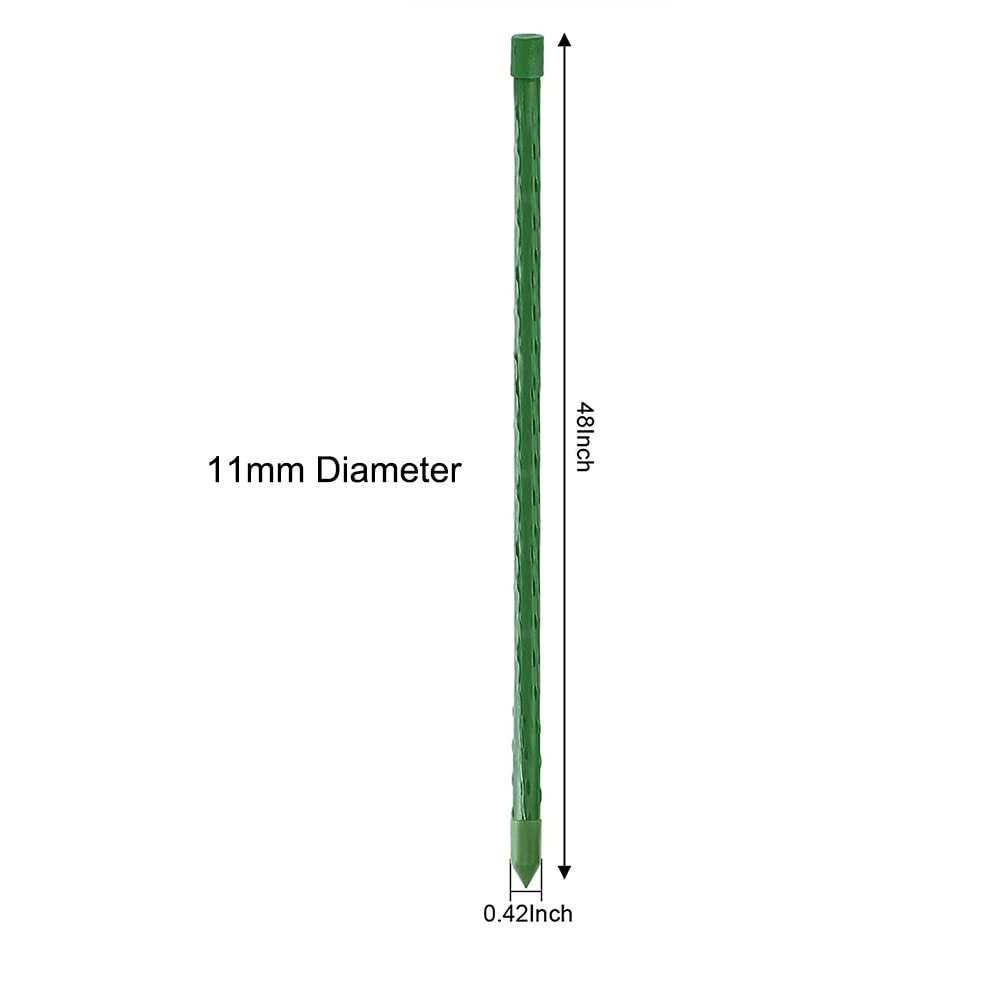0.42Inch: (484, 904, 572, 922)
11mm: (209, 456, 303, 482)
Diameter: (318, 456, 462, 483)
